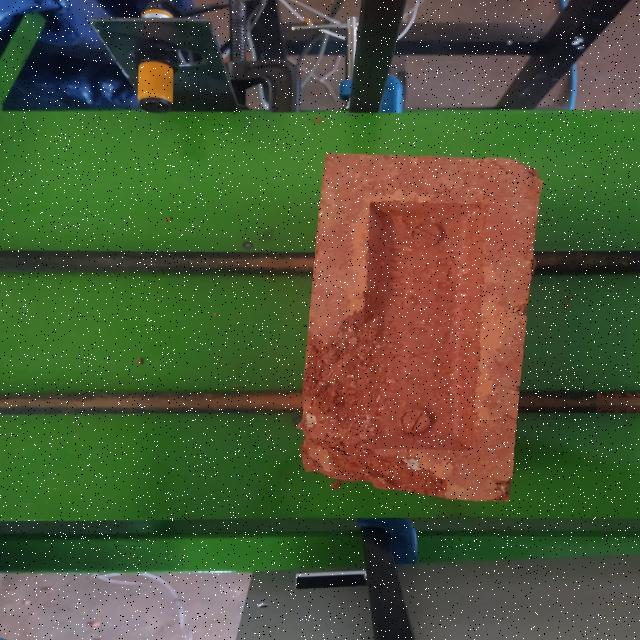bricks_ruin: (302, 148, 543, 503)
